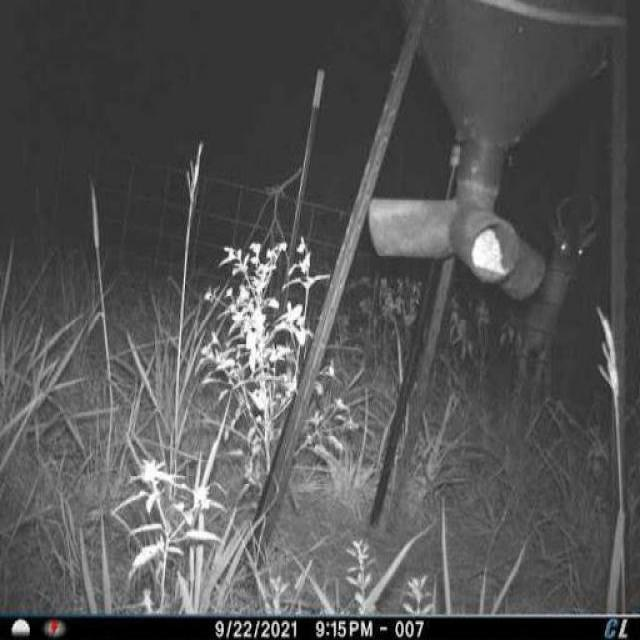deer: (490, 175, 605, 418)
